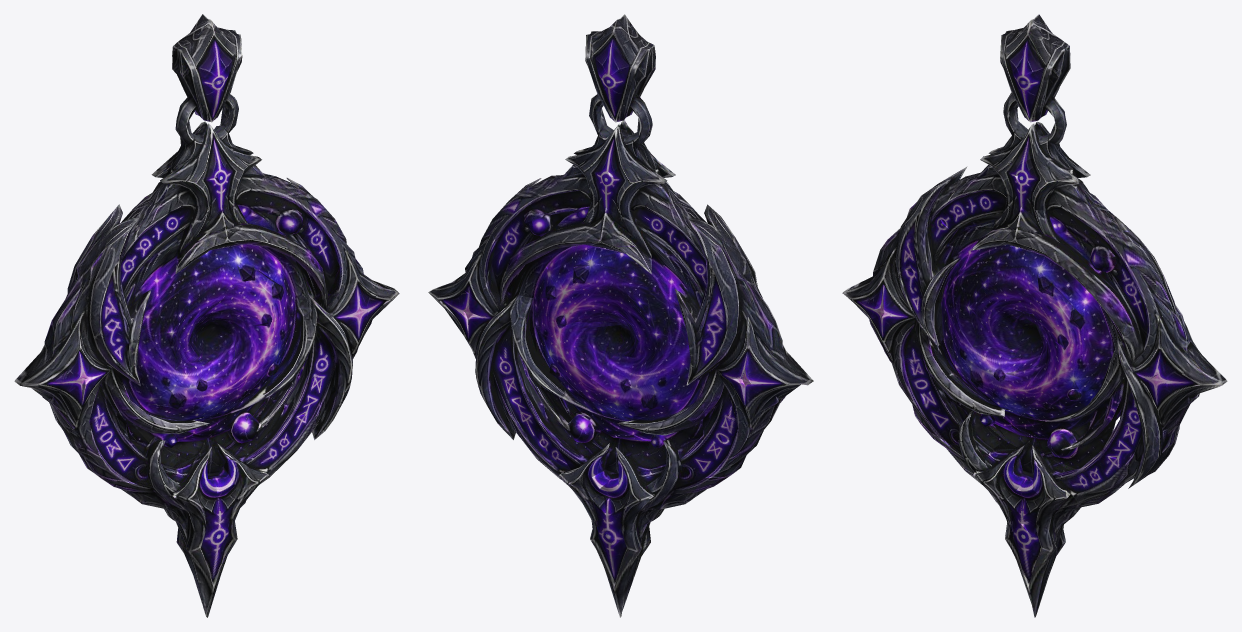
File: set-void-amulet.glb
3 views of the same model, side by side, from view 1: azimuth 30°, elevation 25°; view 2: azimuth 150°, elevation 25°; view 3: azimuth 330°, elevation 25° (orthographic).
Size of the model in its own units: 1.32 by 2 by 0.2531.
1 material, 1 textured.
